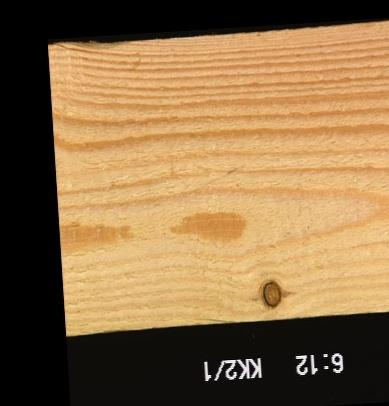dry_knot: (261, 279, 282, 308)
split: (188, 316, 233, 325)
wave: (46, 37, 135, 47)
